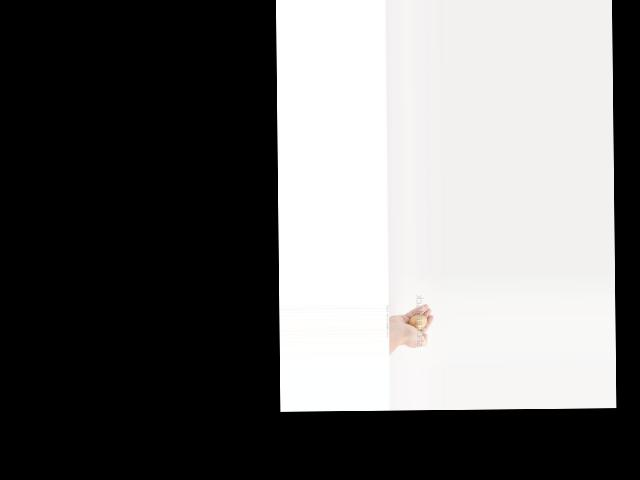egg: (408, 314, 426, 329)
